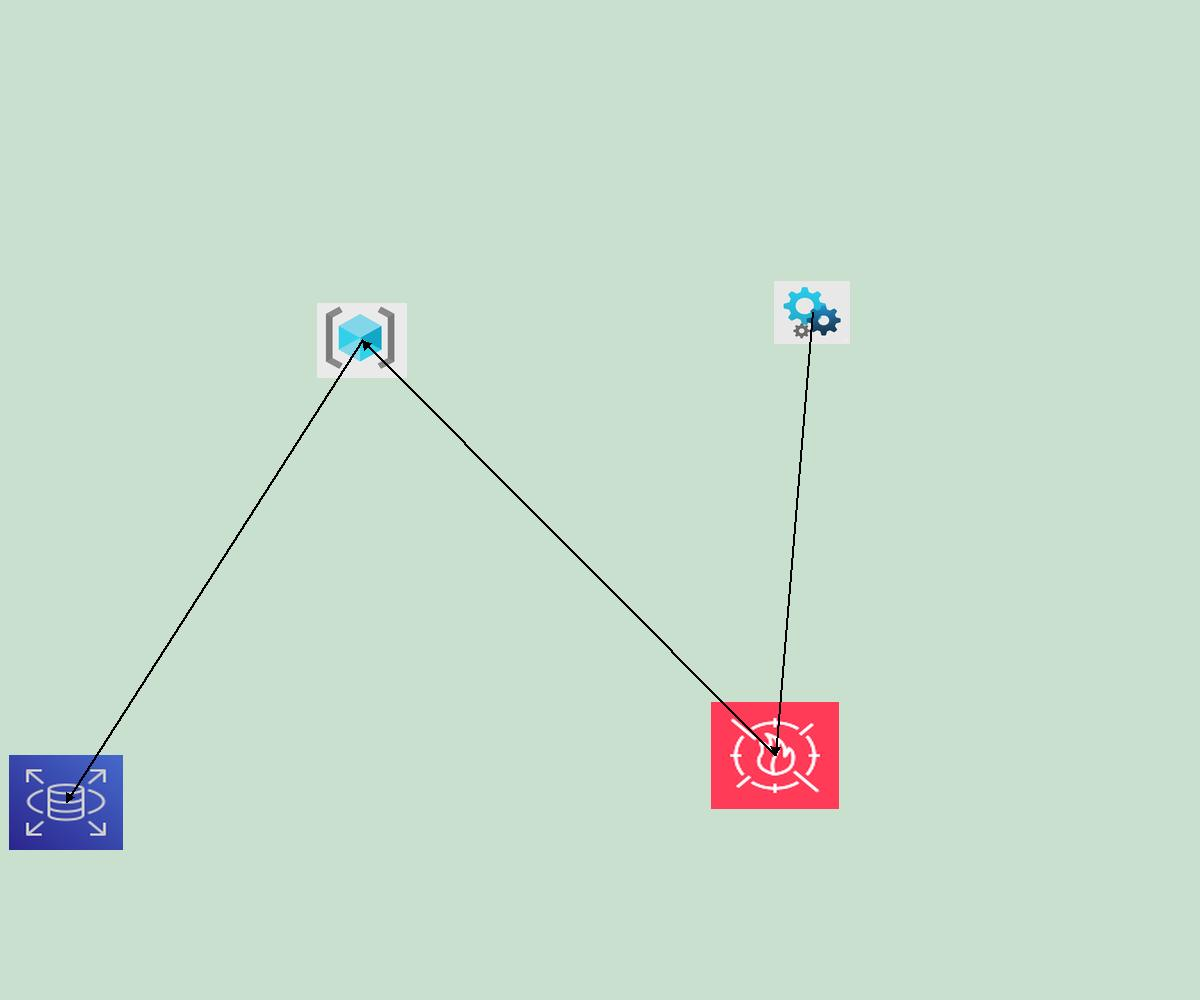AWS-RDS: (9, 755, 123, 850)
AWS-WAF: (711, 702, 839, 809)
Azure_api: (774, 281, 850, 344)
Azure_resource_group: (317, 303, 407, 378)
